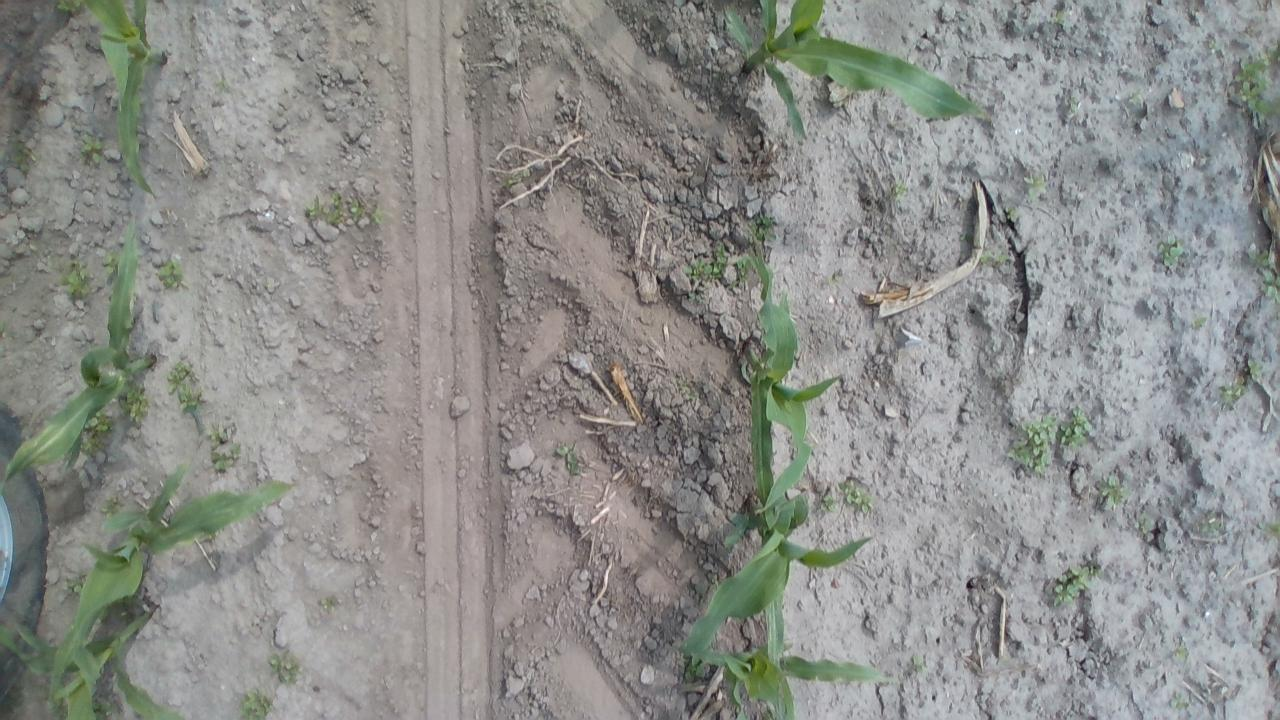Maize: (44, 456, 296, 701), (0, 208, 154, 498), (716, 0, 989, 148), (738, 239, 847, 550), (676, 496, 880, 658), (0, 607, 180, 720), (72, 0, 171, 205), (686, 638, 896, 717)
Weeds: (1232, 42, 1278, 126), (302, 187, 388, 228), (1008, 411, 1060, 478), (1048, 561, 1102, 609), (167, 359, 205, 418), (203, 426, 242, 477), (56, 255, 98, 300), (1216, 364, 1258, 408), (682, 243, 728, 280), (264, 646, 306, 686), (1246, 246, 1276, 301), (1059, 406, 1094, 452), (80, 410, 117, 453), (836, 478, 876, 516), (1095, 472, 1132, 512), (234, 686, 280, 718), (118, 384, 150, 425), (746, 211, 780, 248), (155, 255, 186, 293), (554, 441, 586, 476), (74, 132, 106, 166), (1158, 233, 1186, 270), (724, 253, 750, 290), (4, 144, 36, 174), (1022, 168, 1048, 202), (980, 245, 1014, 271), (682, 652, 706, 682), (112, 596, 142, 620), (1199, 510, 1222, 539), (60, 574, 90, 596), (90, 696, 119, 718), (886, 178, 910, 204), (316, 592, 342, 614), (1132, 511, 1154, 536), (102, 248, 123, 272), (816, 490, 838, 512), (1000, 202, 1020, 226), (1046, 8, 1070, 28), (1172, 641, 1192, 665), (1168, 691, 1192, 711), (1262, 516, 1279, 544), (1246, 356, 1264, 382), (504, 170, 530, 187), (212, 71, 231, 94), (908, 654, 927, 676), (1190, 312, 1210, 332), (101, 494, 120, 515), (1065, 94, 1083, 116), (688, 290, 706, 307), (958, 230, 972, 246), (691, 585, 706, 597), (1130, 92, 1144, 103), (708, 579, 718, 592), (1208, 40, 1220, 50), (828, 274, 838, 284), (679, 378, 687, 390), (689, 391, 700, 398)
